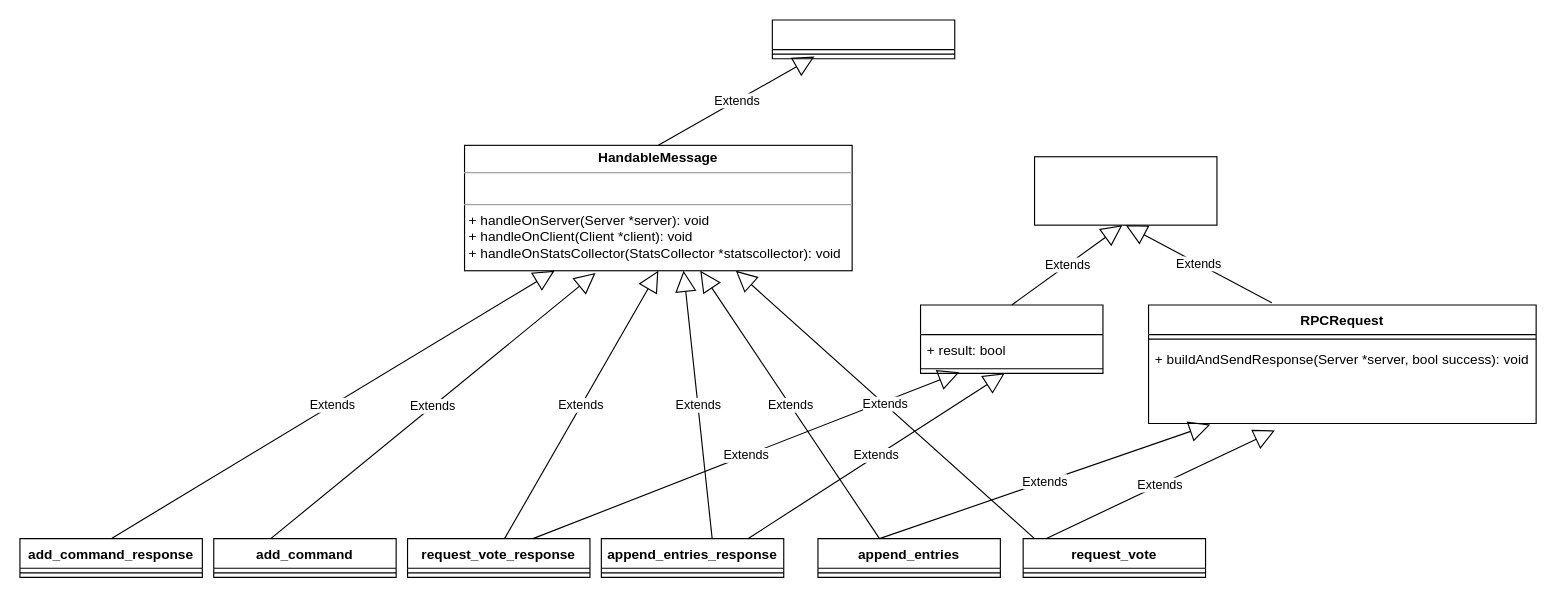
Image size: 1556x597. Some labels were removed from this diagram. Here are the shapes that lost their labels. From the top down, the box of each, then its label:
(771, 19, 955, 59): CMessage
(1033, 156, 1217, 225): RPC + term: int
(919, 304, 1103, 373): RPCResponse
